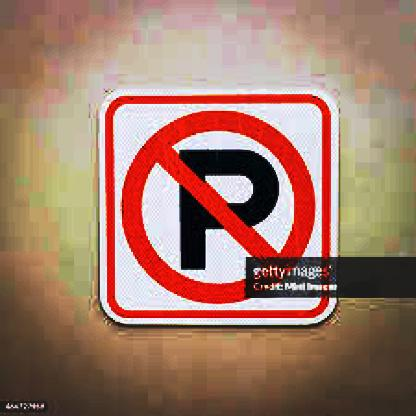No parking: (118, 106, 312, 304)
